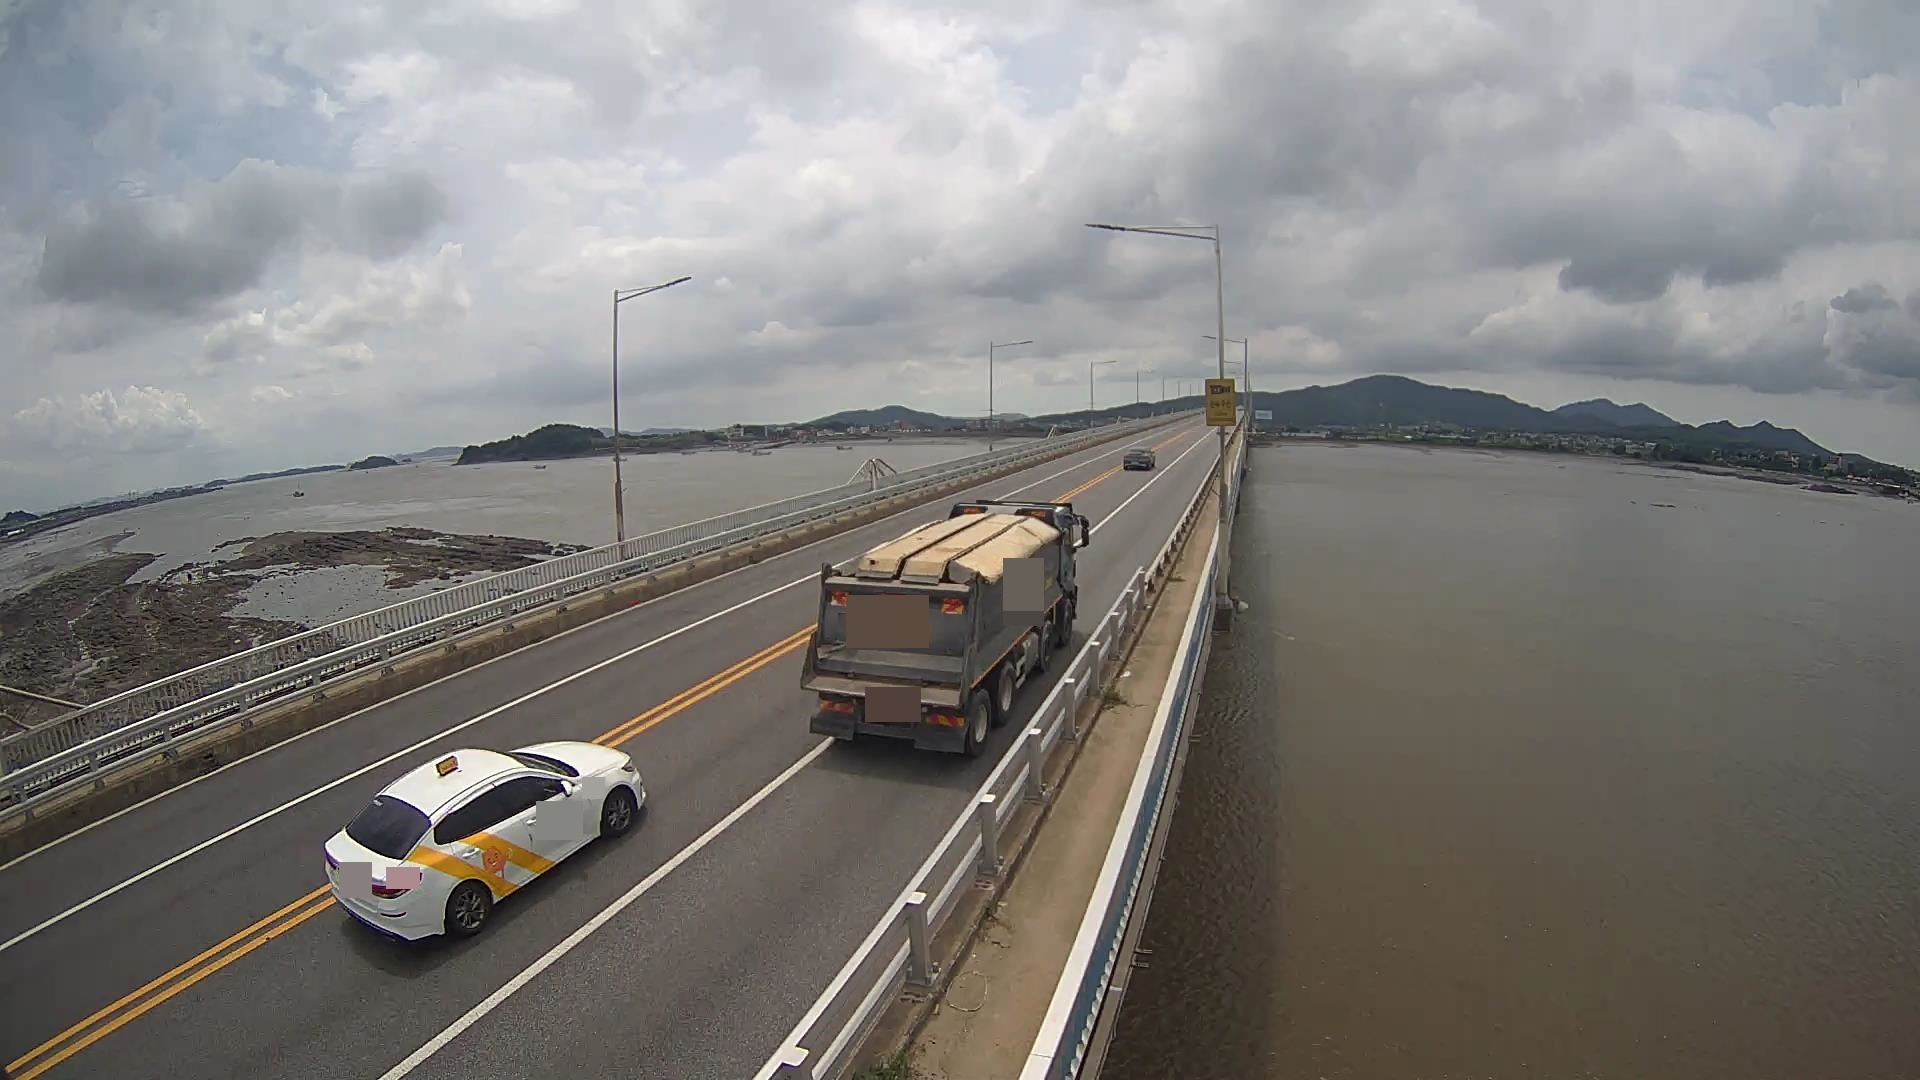정상차량: (801, 500, 1090, 758)
